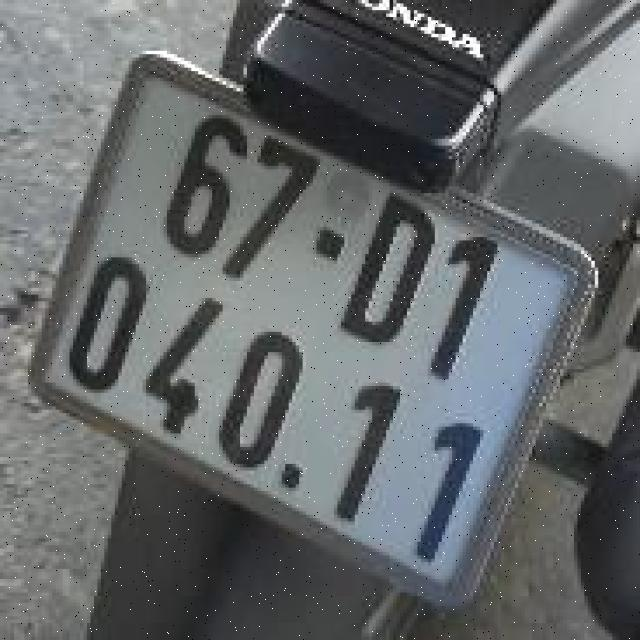0: (207, 321, 319, 483), (57, 241, 158, 406)
1: (400, 218, 511, 391), (308, 360, 410, 534), (387, 403, 489, 569)
4: (134, 277, 245, 445)
6: (147, 103, 258, 272)
7: (212, 130, 332, 307)
D: (328, 183, 450, 363)
